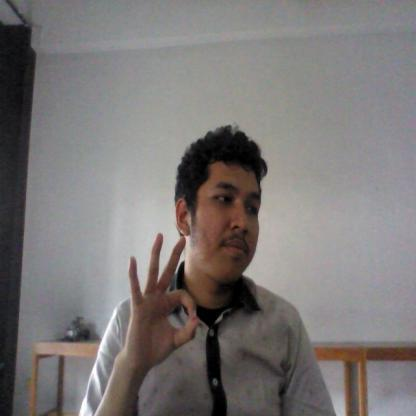O: (118, 231, 203, 366)
